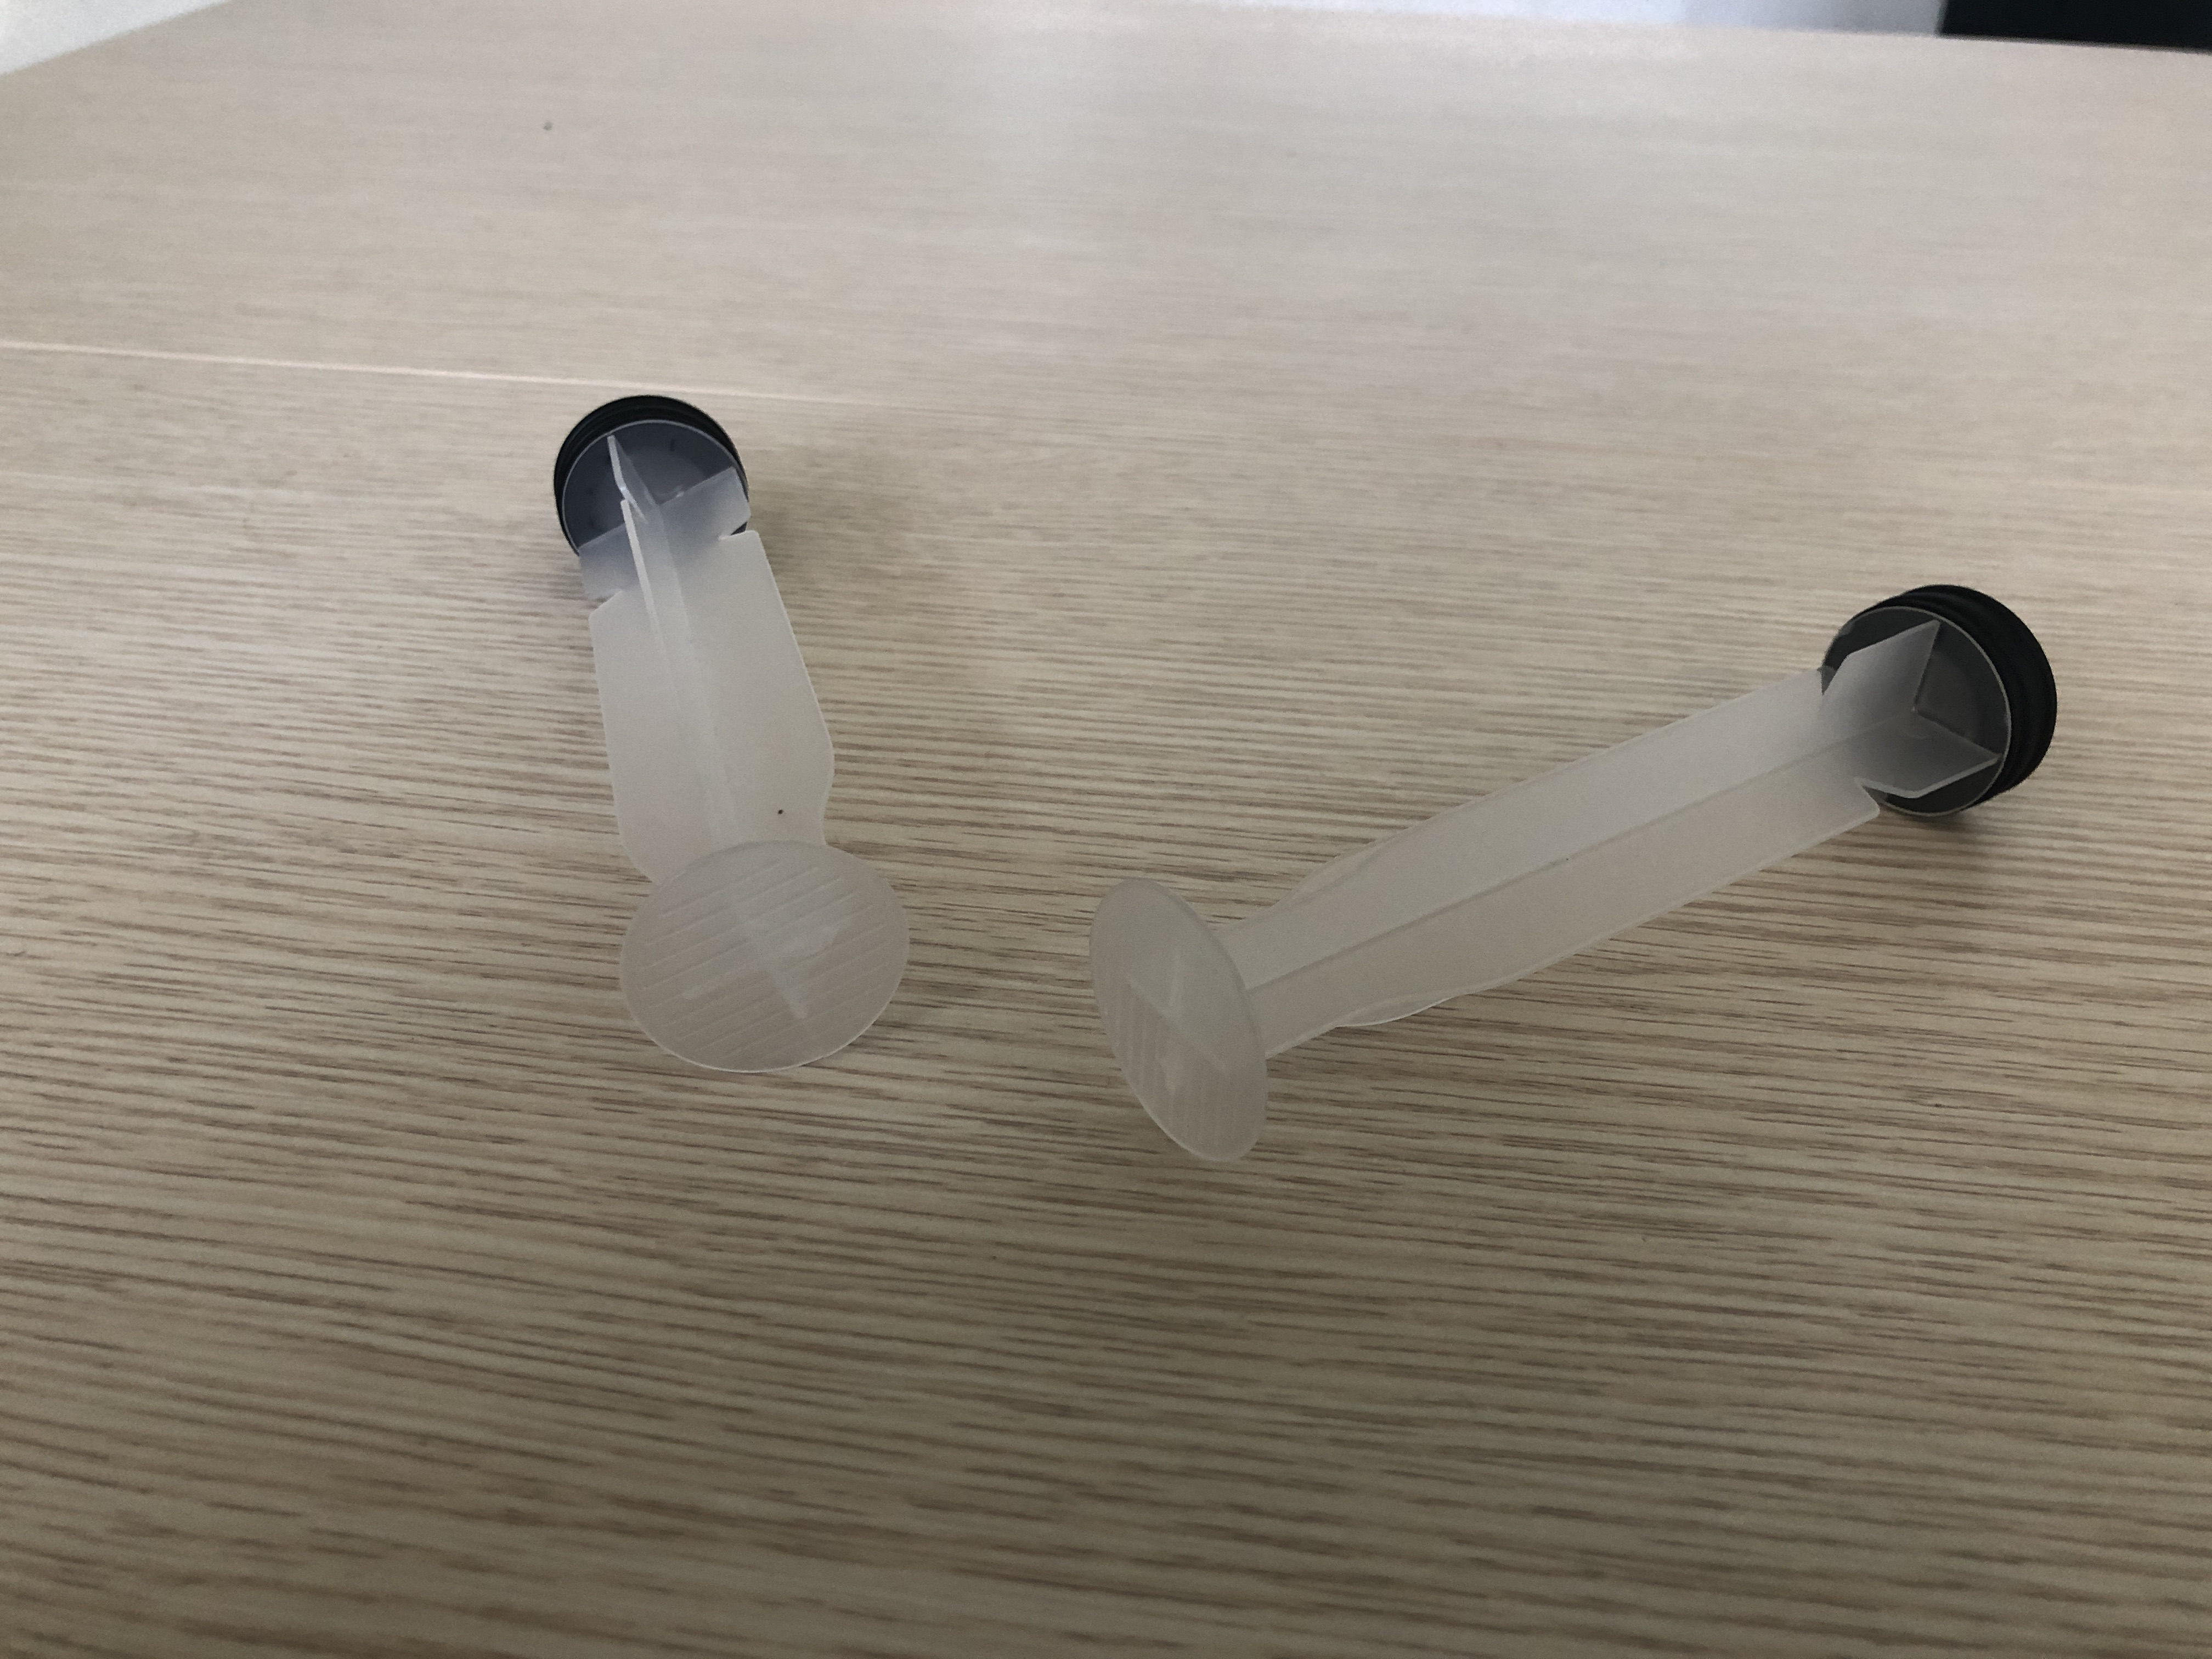plunger: (1080, 572, 2064, 1166), (550, 387, 923, 1079)
